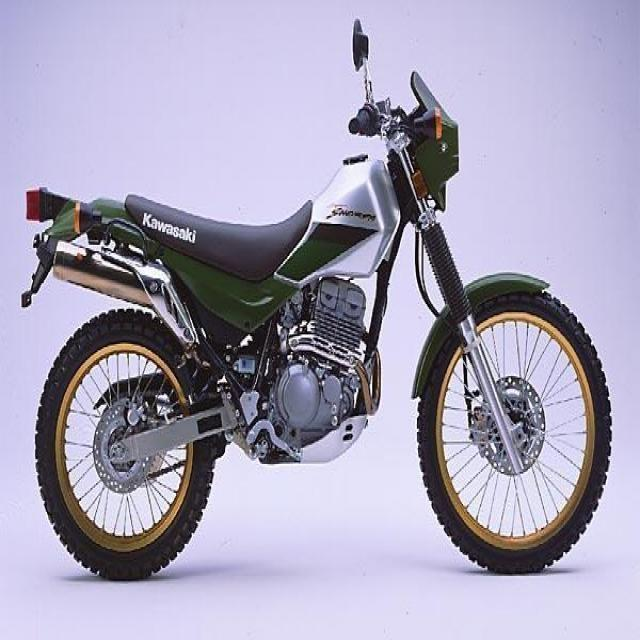Motorcycle: (15, 80, 614, 582)
